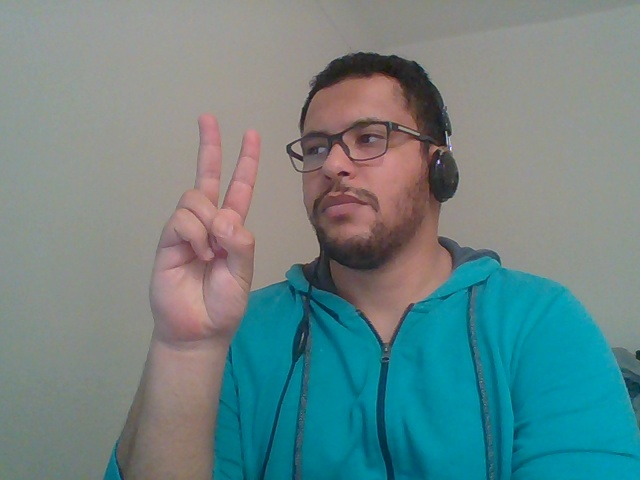vectory: (123, 91, 283, 380)
